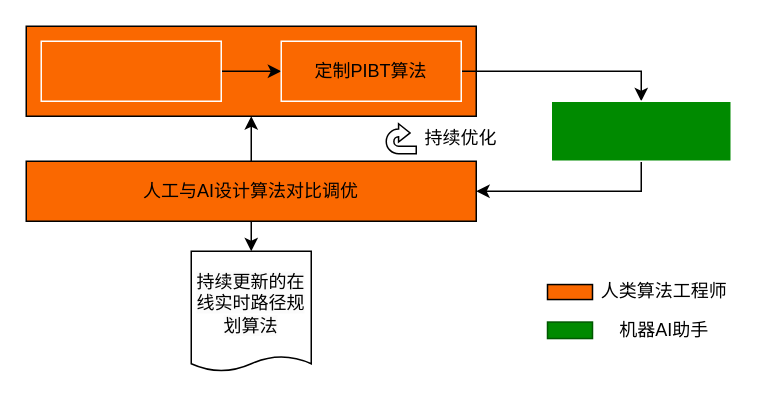
Some shapes in this 761 by 398 pixel diagram are drawn without their labels. The centre of each missing label's shape, as x and y in pixels:
"定制CBS算法" belongs at (130,70).
"训练AI实现在线实时路径规划算法" belongs at (640,130).
